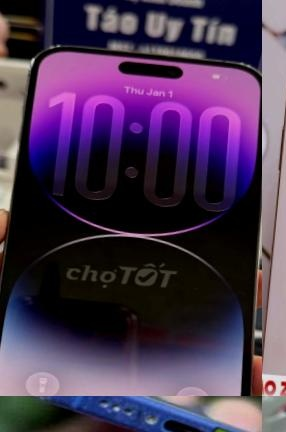scratch: (77, 396, 182, 432), (26, 396, 54, 404)
